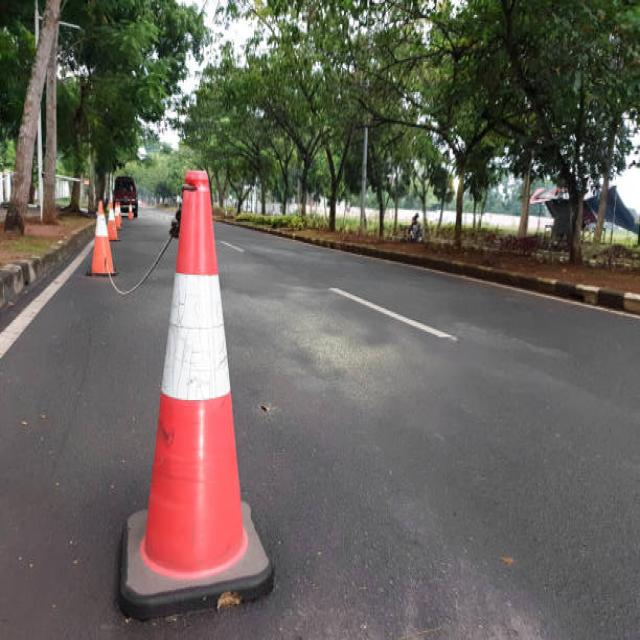Traffic Cone: (109, 157, 281, 622)
